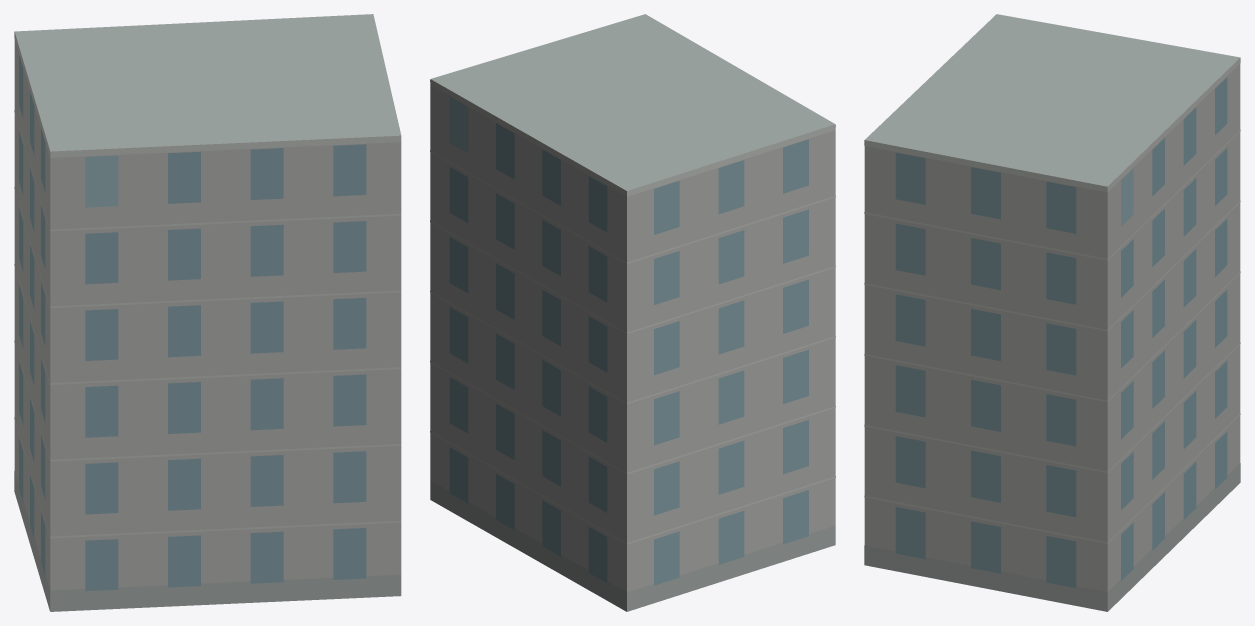
The model's file is survey-upis-32797807.glb.
3 renders of one model, left to right at view 1: azimuth 30°, elevation 25°; view 2: azimuth 150°, elevation 25°; view 3: azimuth 270°, elevation 25°, orthographic. The views are drawn at different scales.
Parts seen in each view (by area): view 1: survey-upis-32797807.tmp; view 2: survey-upis-32797807.tmp; view 3: survey-upis-32797807.tmp.
Boxes of the visible parts, x1,y1,x2,y2 form: survey-upis-32797807.tmp: (14,14,401,611); survey-upis-32797807.tmp: (430,14,835,611); survey-upis-32797807.tmp: (864,14,1240,611).
Size of the model in its own units: 15.1 by 17.3 by 13.89.
